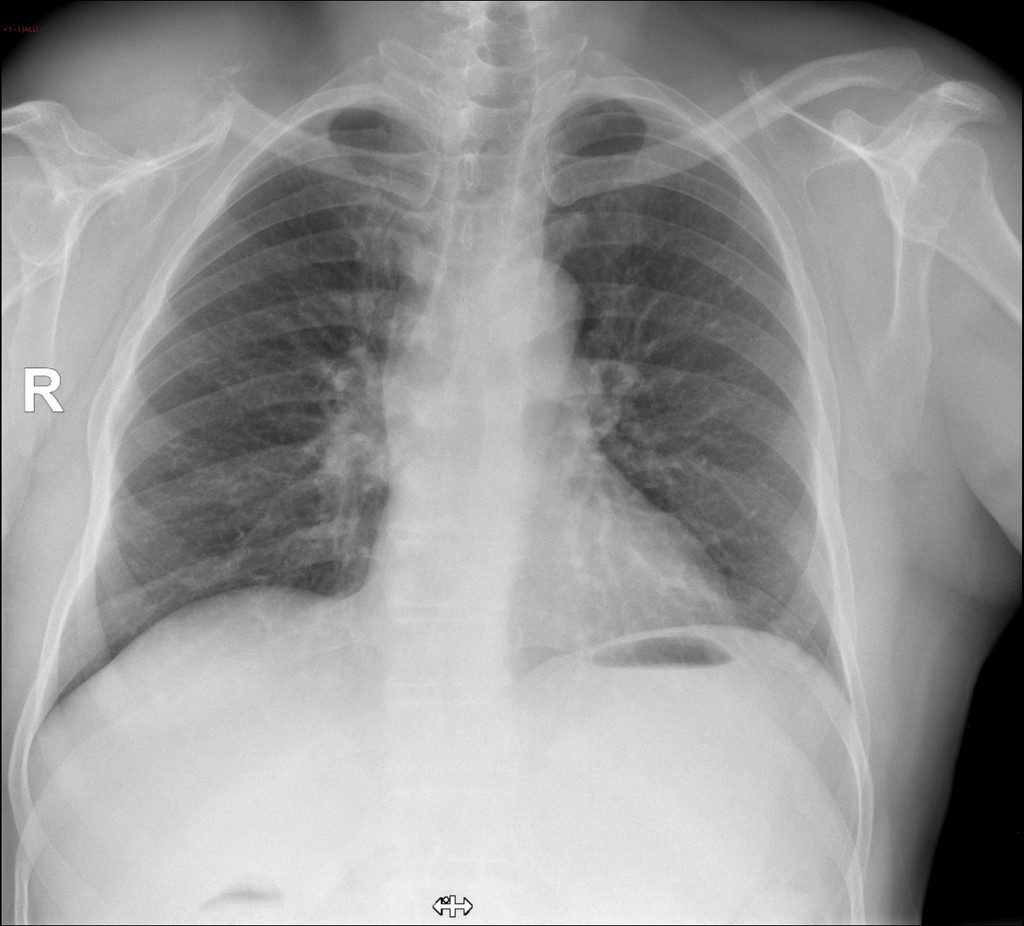cancer: (529, 75, 799, 675), (93, 175, 418, 625)
